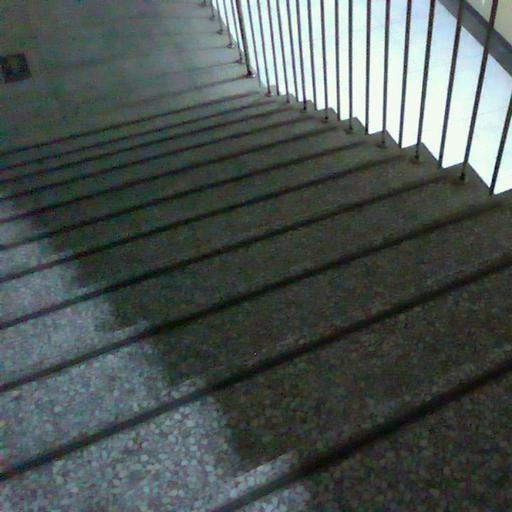stairs: (0, 80, 511, 511)
